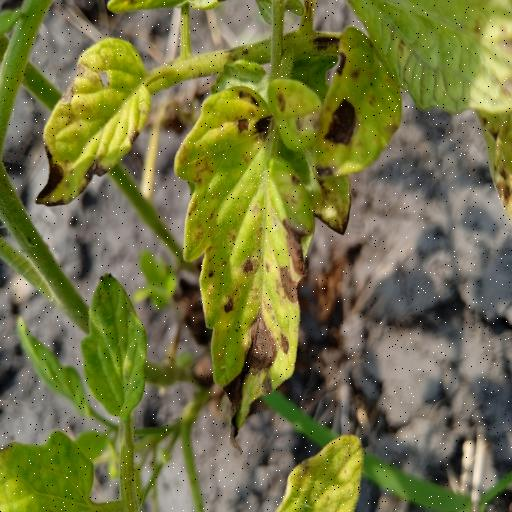Tomato_Brown_Spots: (170, 71, 355, 457), (36, 32, 155, 204), (313, 28, 403, 174), (77, 266, 151, 422)
